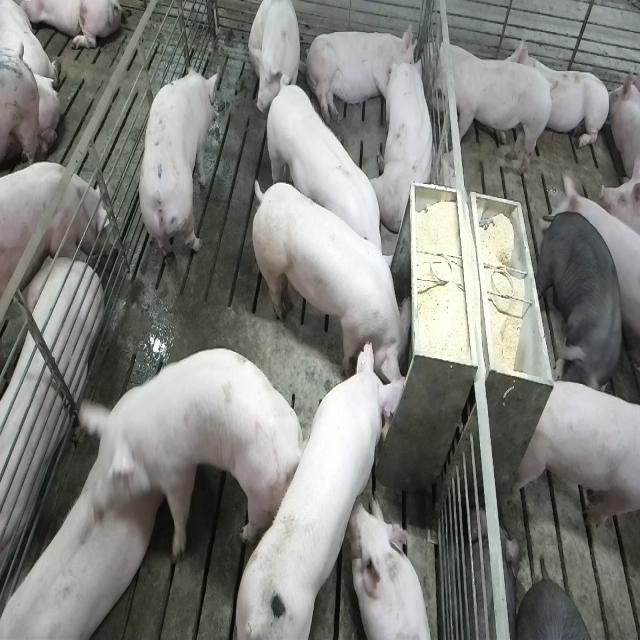Feeding: (240, 332, 418, 635), (255, 171, 420, 392)
Lateral_lying: (0, 243, 102, 608), (304, 20, 418, 126)
Sitting: (250, 2, 306, 117)
Standing: (72, 349, 302, 573), (0, 395, 145, 640), (262, 76, 394, 287), (4, 505, 157, 638), (511, 377, 638, 535), (424, 44, 555, 182), (138, 59, 220, 277), (537, 209, 624, 389), (0, 163, 110, 303)
Sternal_lying: (503, 29, 608, 152), (376, 48, 438, 233), (354, 498, 434, 640)
